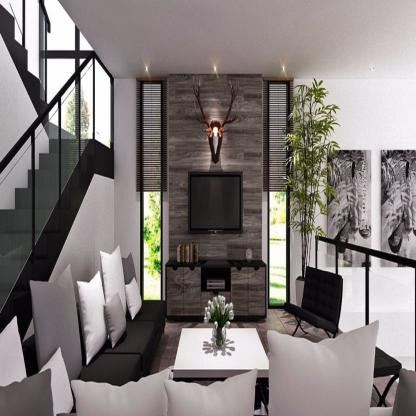bantal: (265, 332, 374, 416), (79, 373, 169, 416), (166, 374, 255, 416), (105, 294, 125, 340), (126, 278, 142, 314)
kursi: (282, 267, 344, 334)
sova: (1, 253, 168, 413)
tanaman: (287, 80, 318, 291)
tv: (186, 168, 246, 236)
